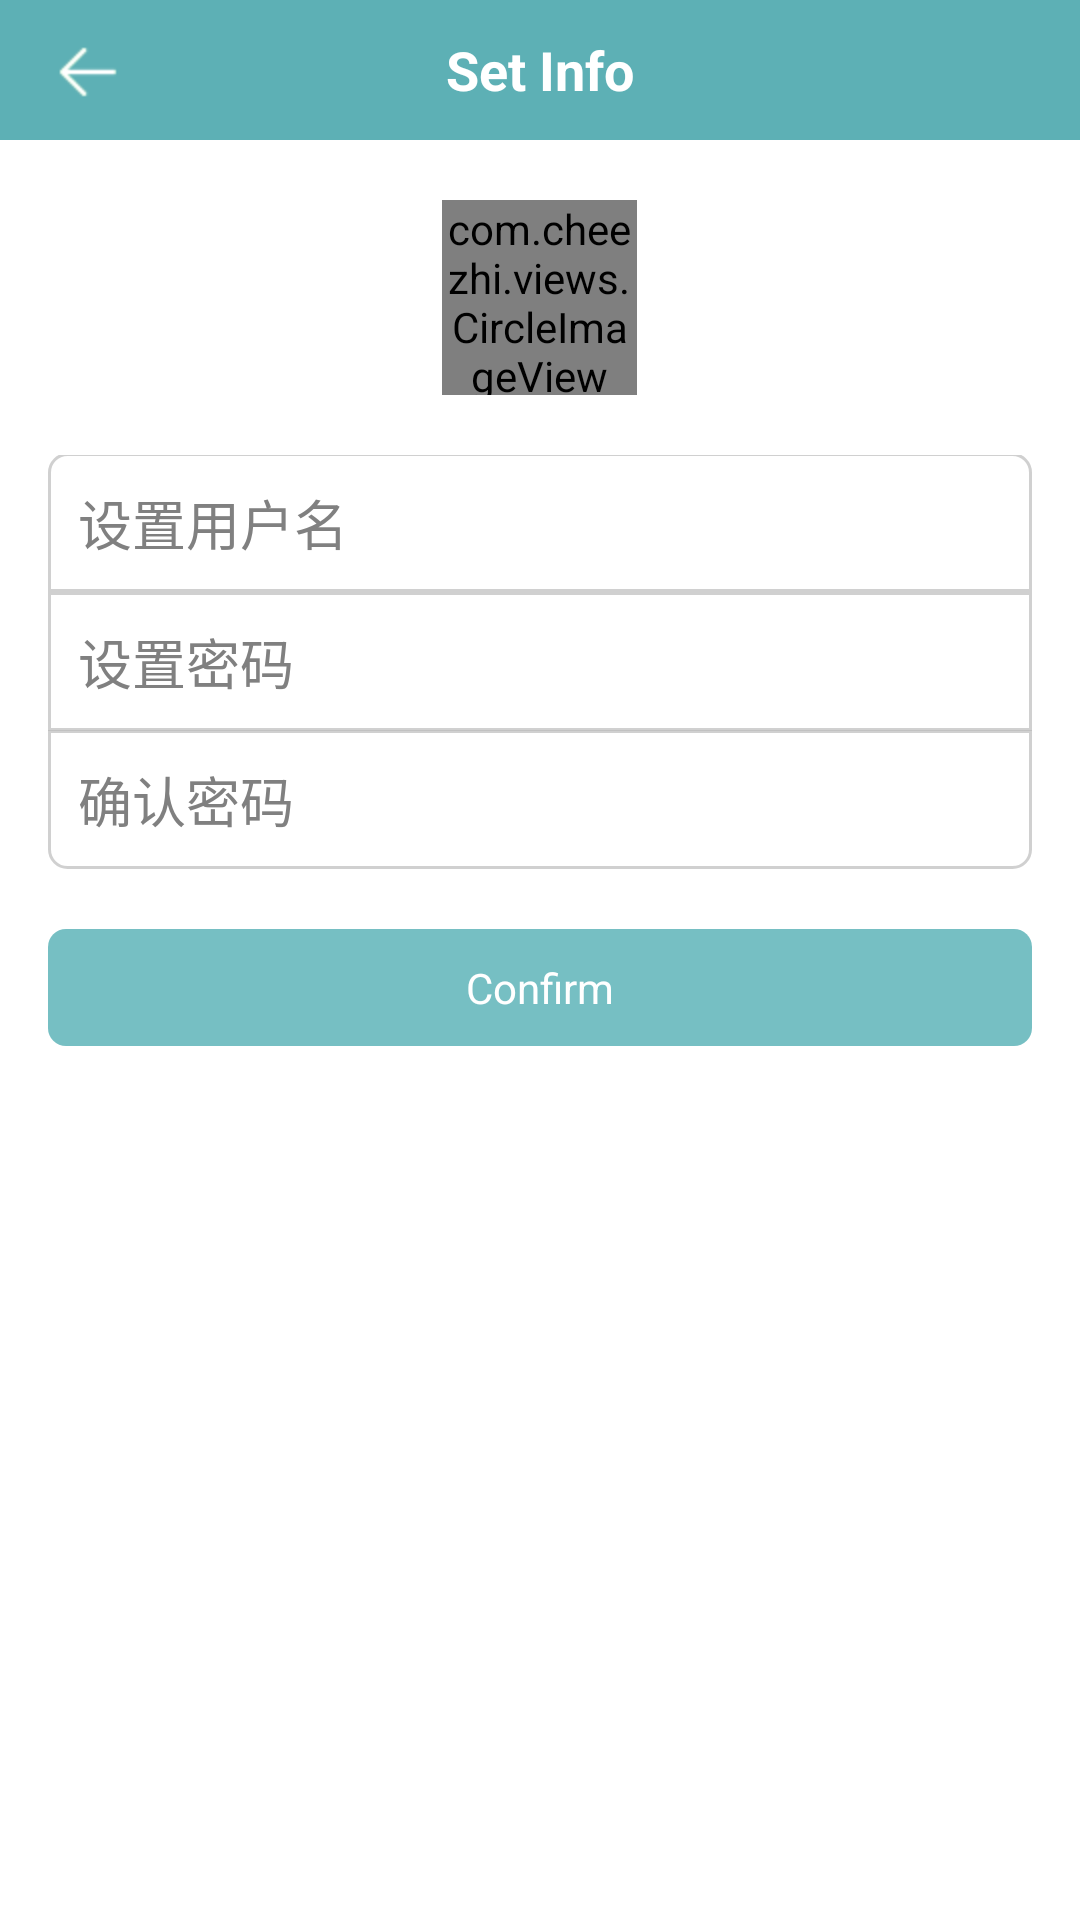

Icons on this 1080px×1920px Android screen, each with its box as (x1=x1, y1=y1, x2=x2, y2=y2):
lyy top back: (x1=59, y1=47, x2=117, y2=97)
